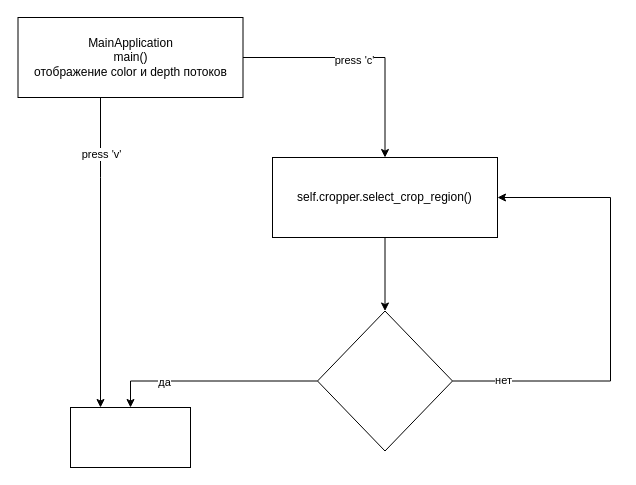
The diagram is 636 pixels wide and 485 high, and some of its shapes have lost their labels. Here are the shapes that lost their labels. From the top down, the box of each, then its label:
(316, 310, 452, 451): points[] == 4?
(70, 406, 190, 468): crop_image() каждый кадр
